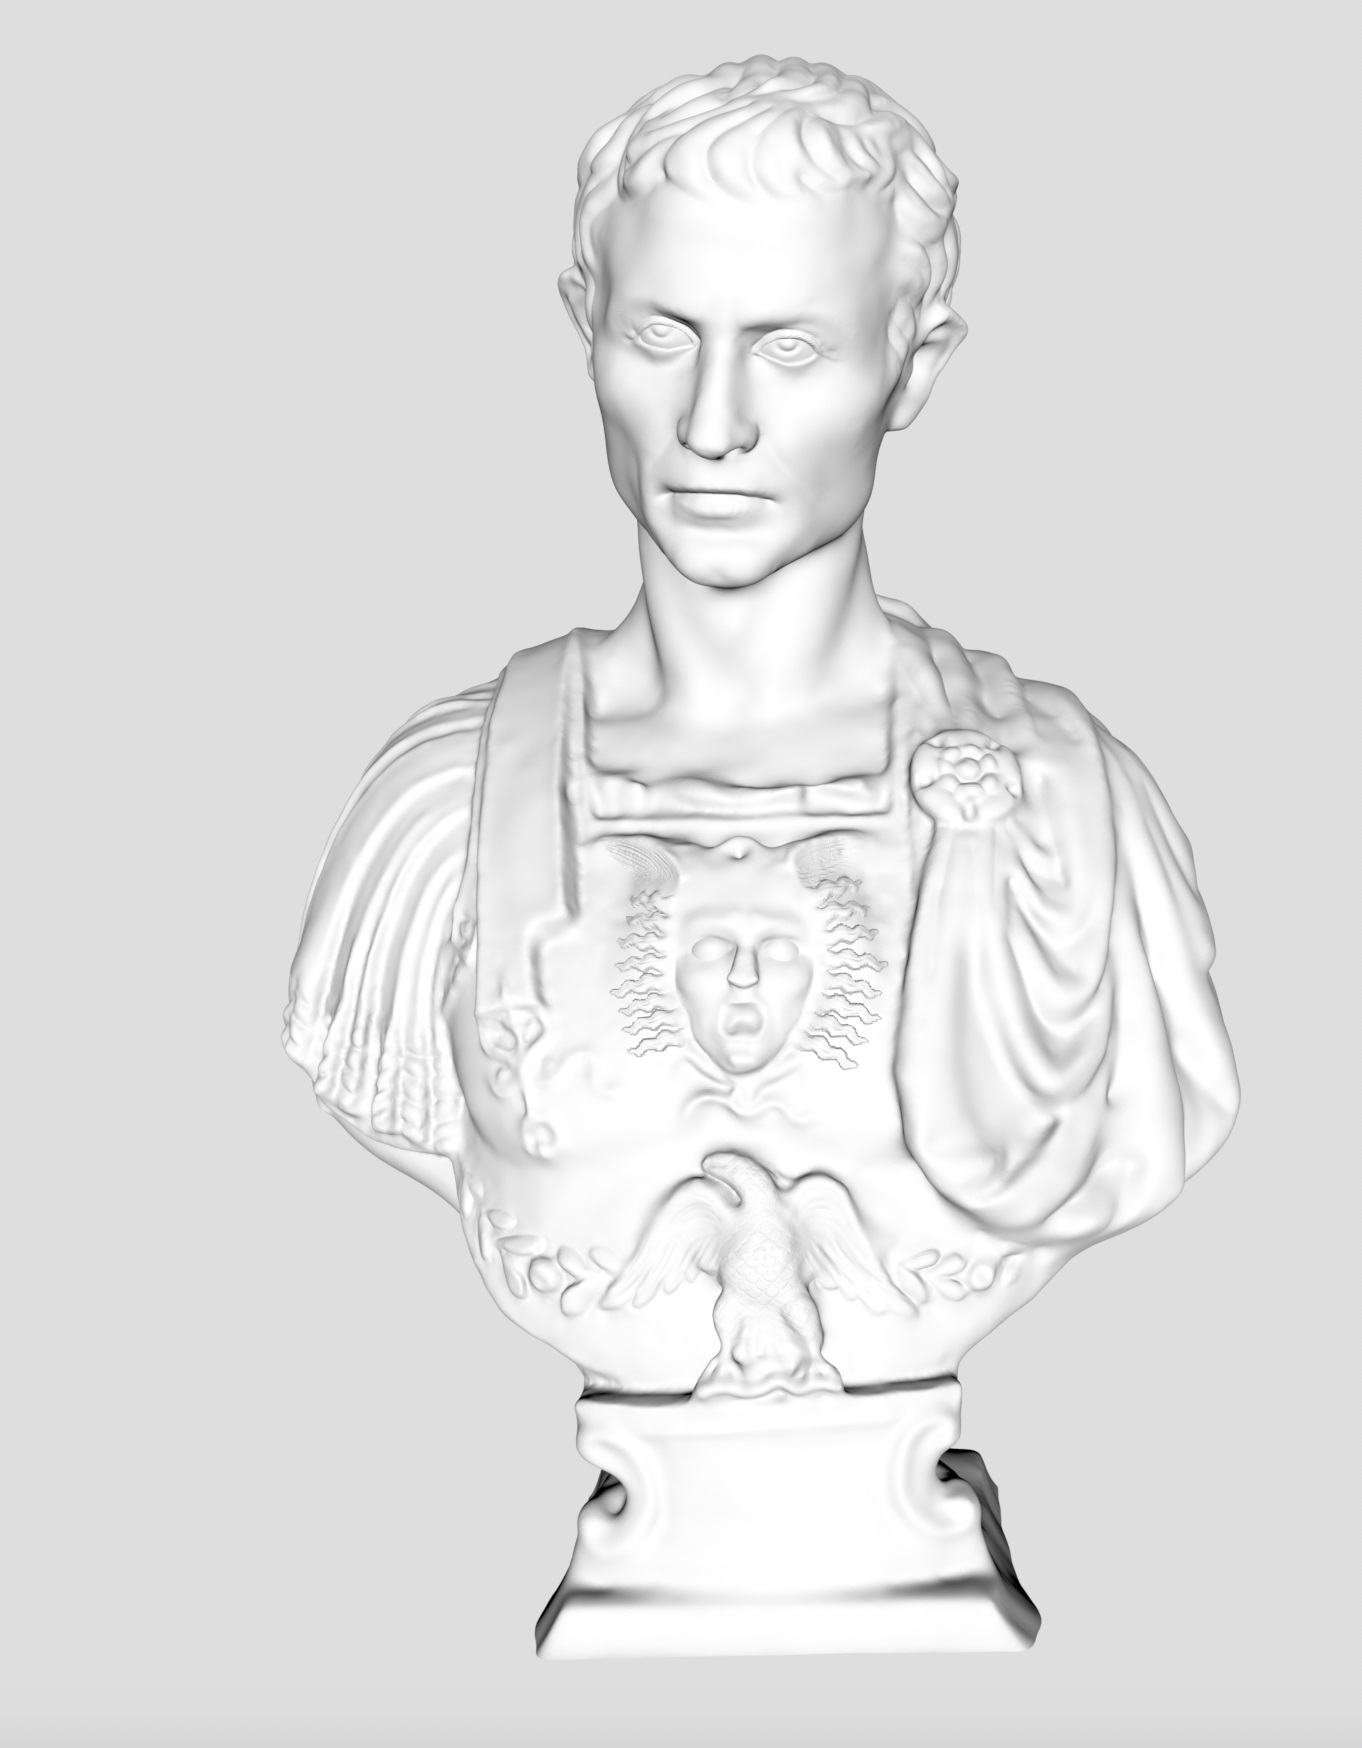person-like: (269, 49, 1255, 1416)
